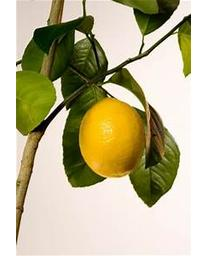lemon: (81, 100, 146, 177)
